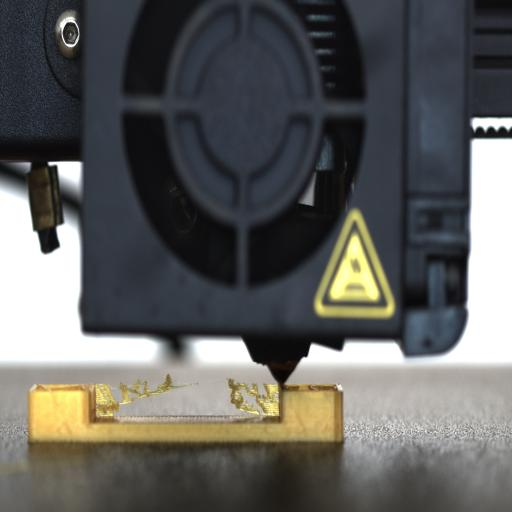stringing: (94, 378, 280, 418)
